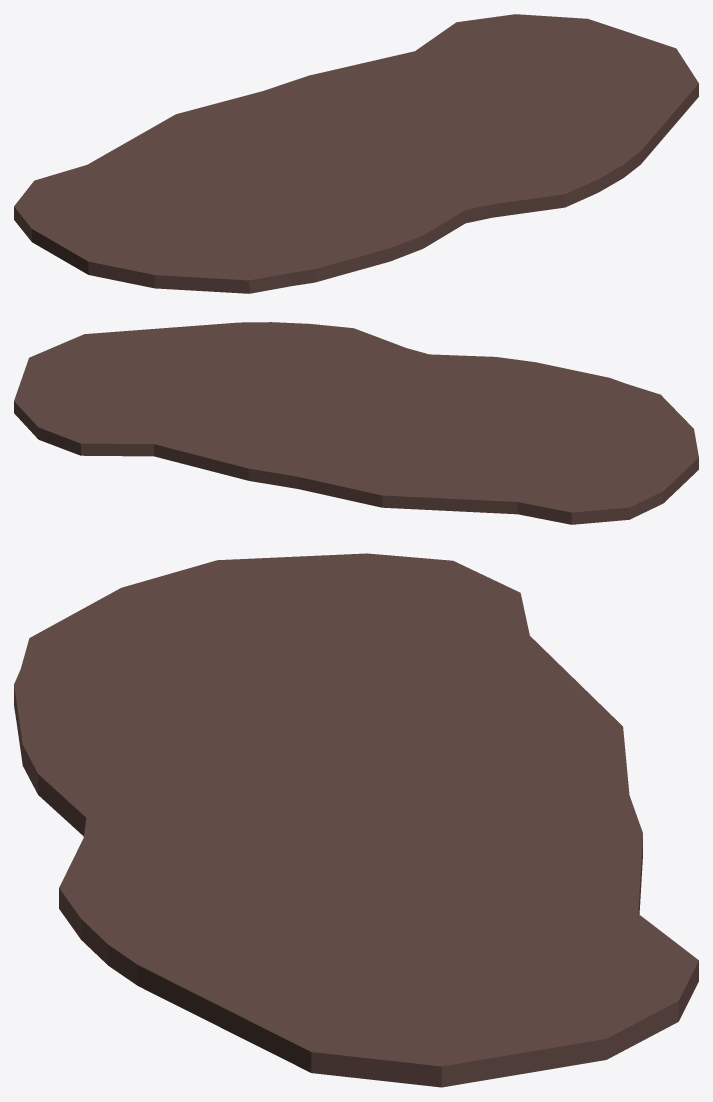
The model's file is Sand 22.FBX.
3 views of the same model, one above another, from view 1: azimuth 30°, elevation 25°; view 2: azimuth 150°, elevation 25°; view 3: azimuth 270°, elevation 25° (orthographic). The views are drawn at different scales.
Parts seen in each view (by area): view 1: Plane001; view 2: Plane001; view 3: Plane001.
Part boxes in pixels (x1,y1,x2,y2): Plane001: (14, 14, 698, 293); Plane001: (14, 322, 698, 524); Plane001: (14, 553, 698, 1087).
Bounding box in the file's own units: 114 × 2.18 × 64.4.
